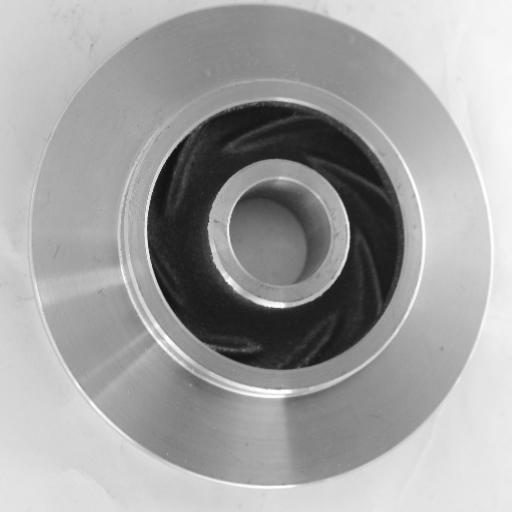polished_casting: (32, 1, 493, 489)
